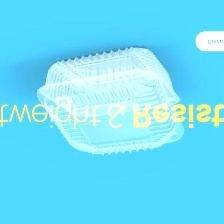plastic_box: (31, 40, 189, 161)
